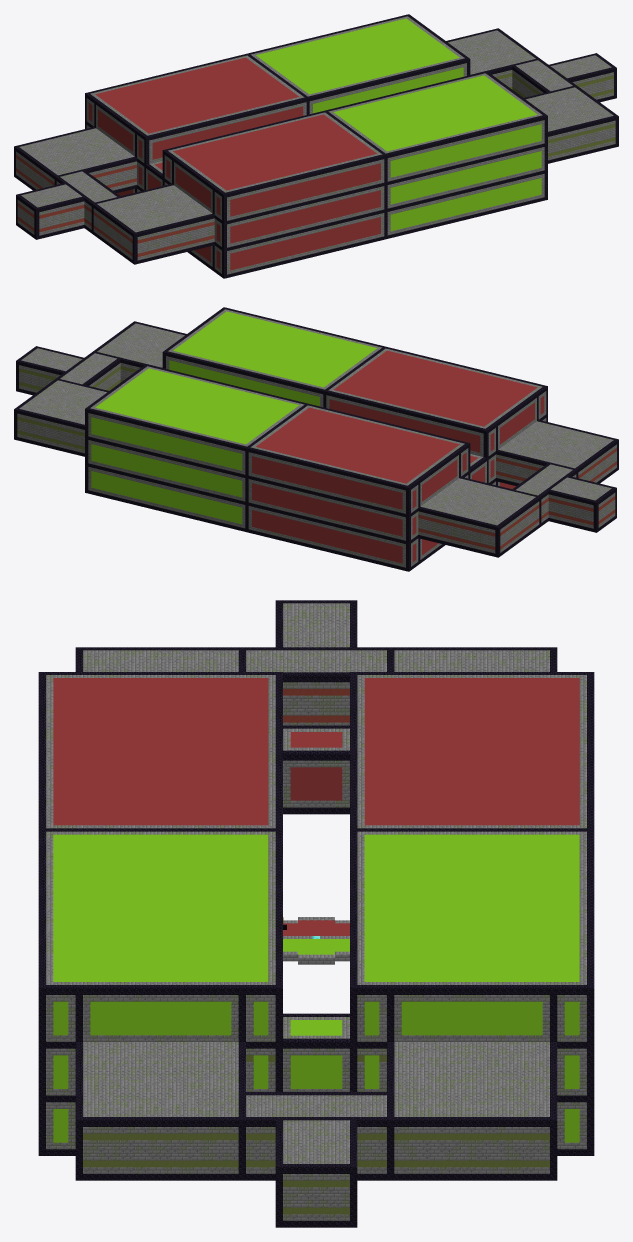
The model's file is minecraft.obj.
The picture shows the model from 3 angles, top to bottom: view 1: azimuth 30°, elevation 25°; view 2: azimuth 150°, elevation 25°; view 3: azimuth 270°, elevation 25°; orthographic projection. The views are drawn at different scales.
Bounding box in the file's own units: 181 × 25 × 75.
